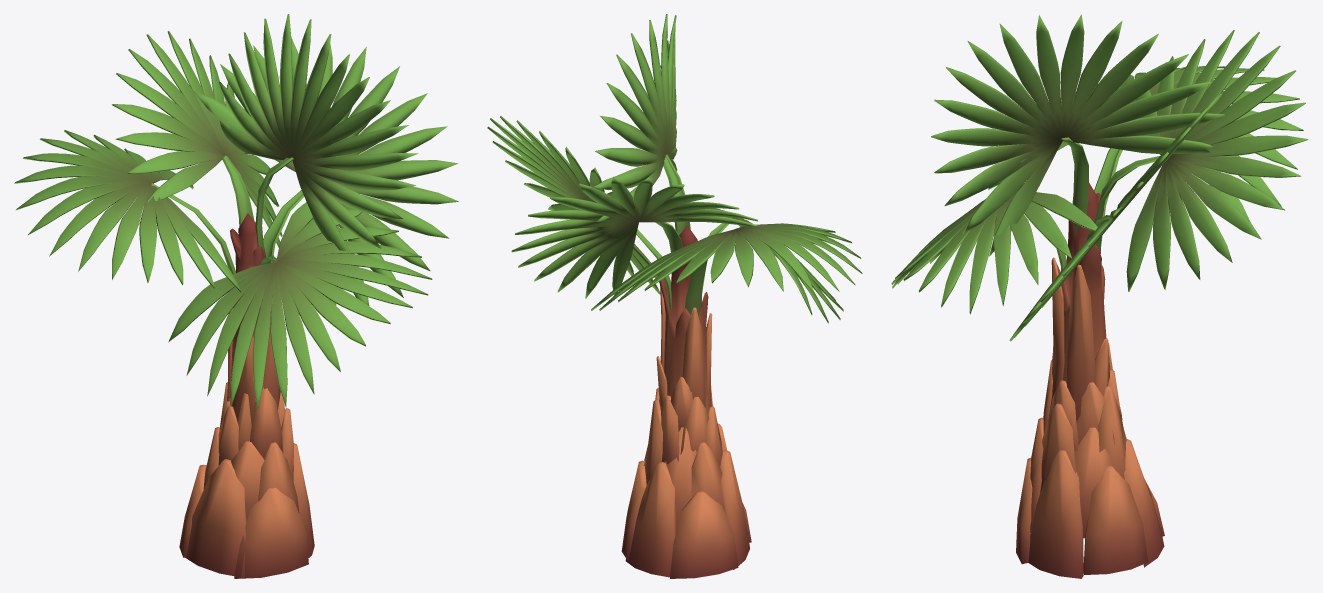
Rendered from M_Palmier_01.fbx.
3 renders of one model, left to right at view 1: azimuth 30°, elevation 25°; view 2: azimuth 150°, elevation 25°; view 3: azimuth 270°, elevation 25°, orthographic. The views are drawn at different scales.
Parts seen in each view (by area): view 1: Cylinder001; view 2: Cylinder001; view 3: Cylinder001.
Part boxes in pixels (left/top/right/bottom): Cylinder001: left=14, top=14, right=458, bottom=578; Cylinder001: left=487, top=14, right=862, bottom=578; Cylinder001: left=891, top=14, right=1308, bottom=578.
Size of the model in its own units: 4.57 by 3.89 by 5.82.
1 material, 1 textured.
